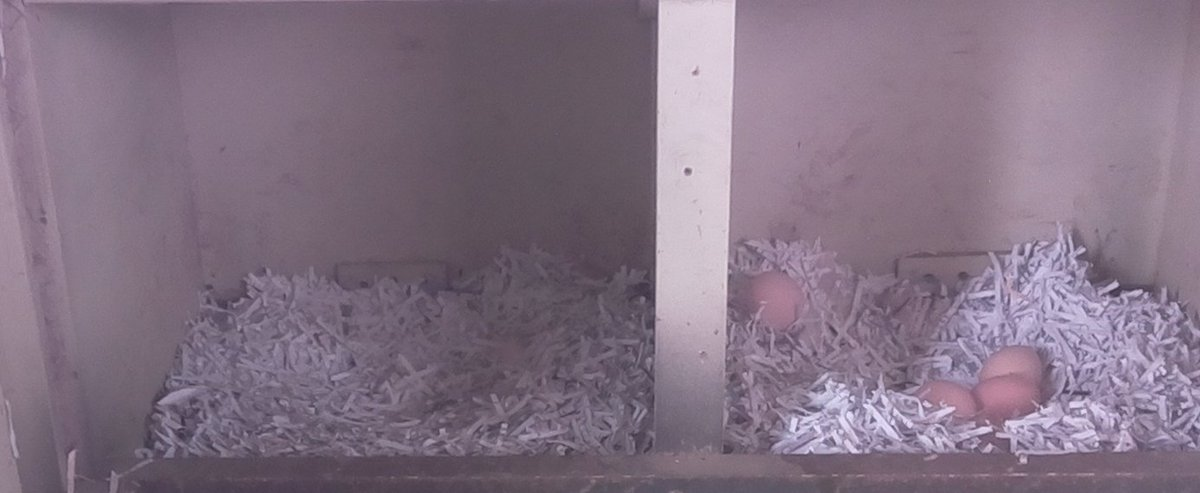egg: (738, 269, 809, 345), (967, 374, 1044, 416), (916, 374, 981, 423), (978, 341, 1045, 381)
